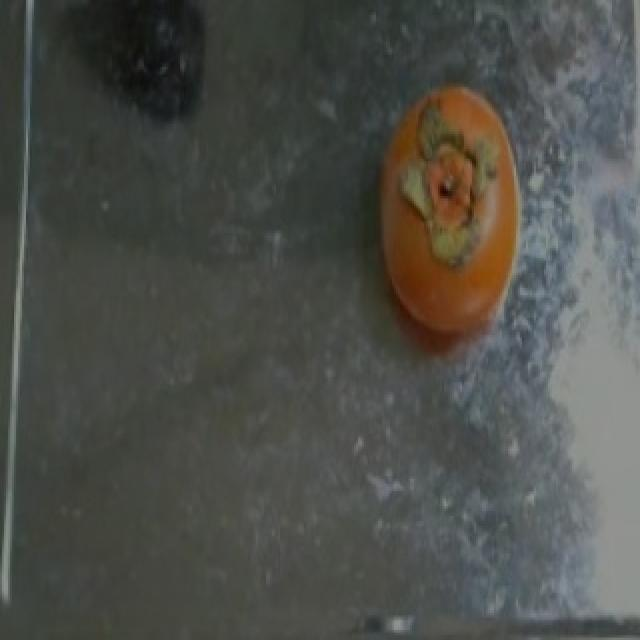Fruit: (352, 64, 544, 360)
